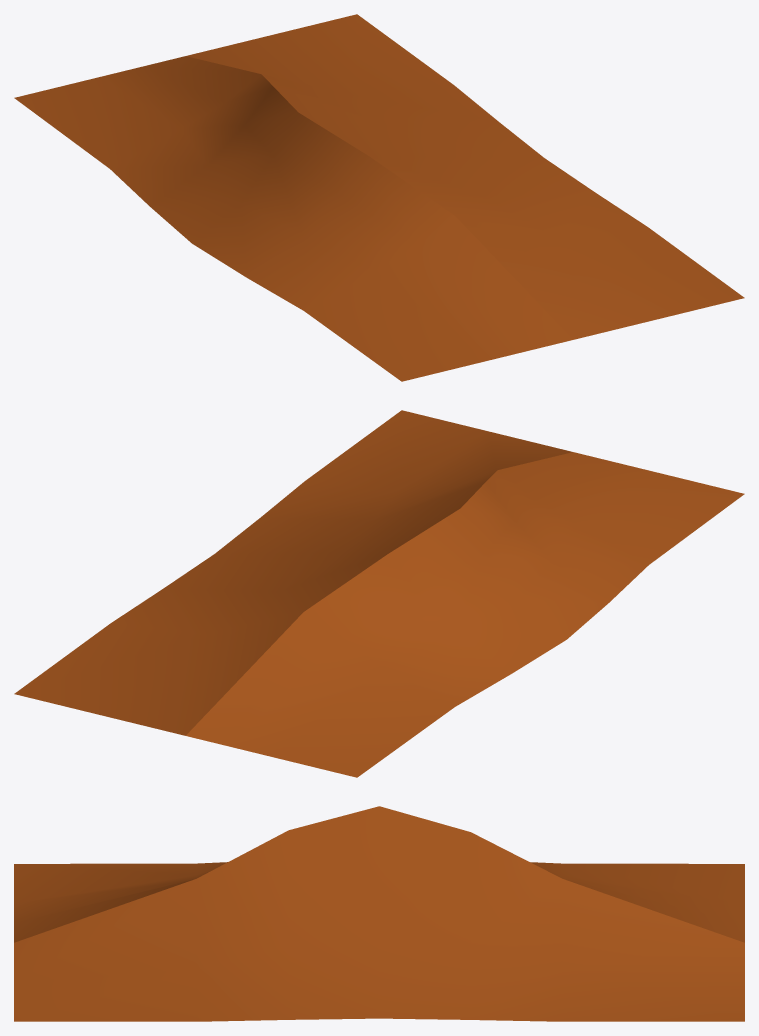
Rendered from SM_Dune_02.fbx.
3 views of the same model, one above another, from view 1: azimuth 30°, elevation 25°; view 2: azimuth 150°, elevation 25°; view 3: azimuth 270°, elevation 25° (orthographic). The views are drawn at different scales.
Parts seen in each view (by area): view 1: SM_Dune_02; view 2: SM_Dune_02; view 3: SM_Dune_02.
Part boxes in pixels (<box>): SM_Dune_02: <box>14,14,744,381</box>; SM_Dune_02: <box>14,410,744,777</box>; SM_Dune_02: <box>14,806,744,1021</box>.
Size of the model in its own units: 648 by 182 by 1212.
